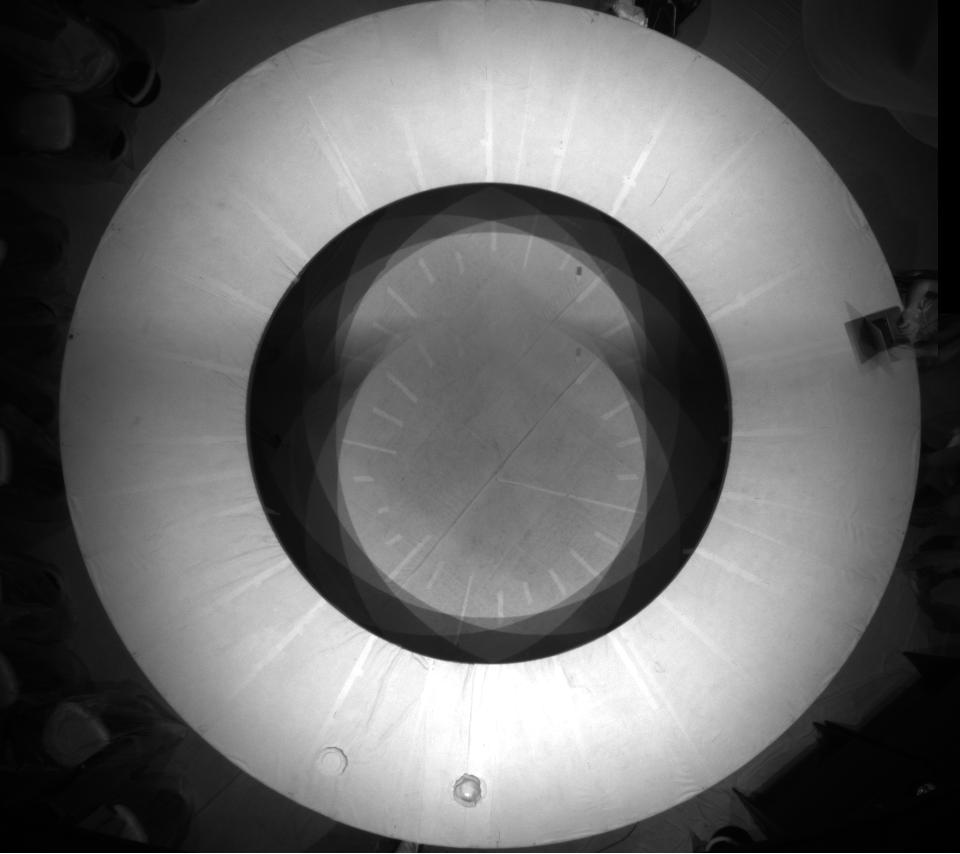Plate: (446, 768, 488, 809)
